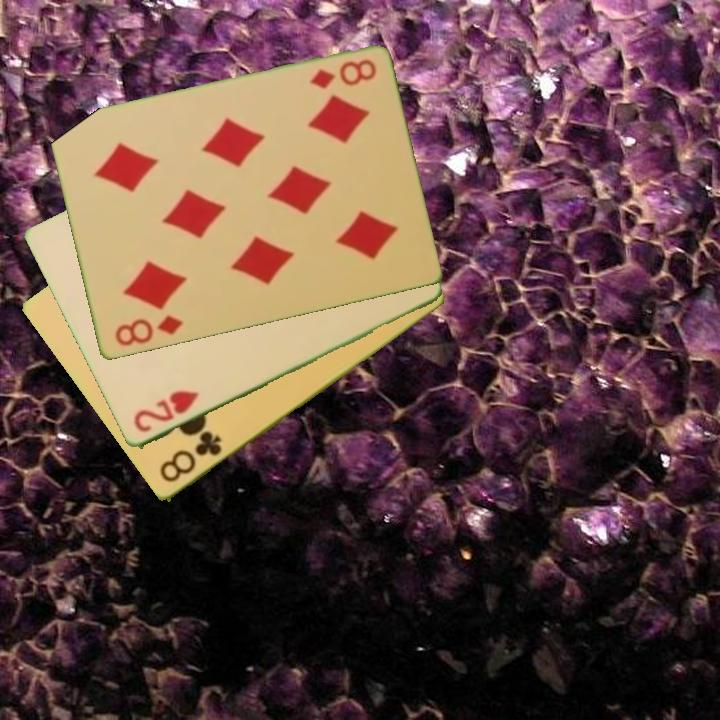2h: (129, 387, 203, 436)
8c: (156, 428, 225, 486)
8d: (111, 312, 185, 350), (306, 56, 379, 92)
